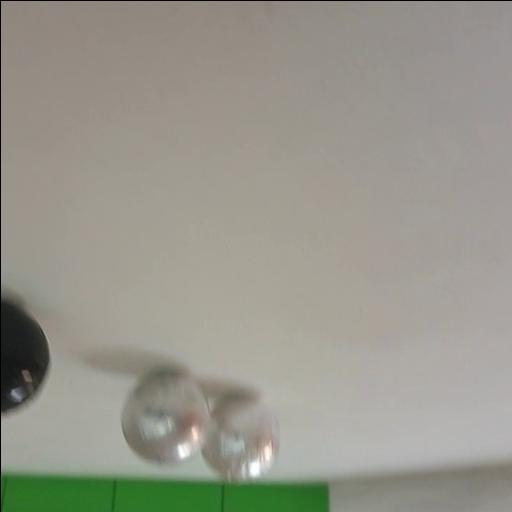alive: (118, 370, 210, 466), (200, 395, 278, 481)
dead: (0, 293, 52, 419)
